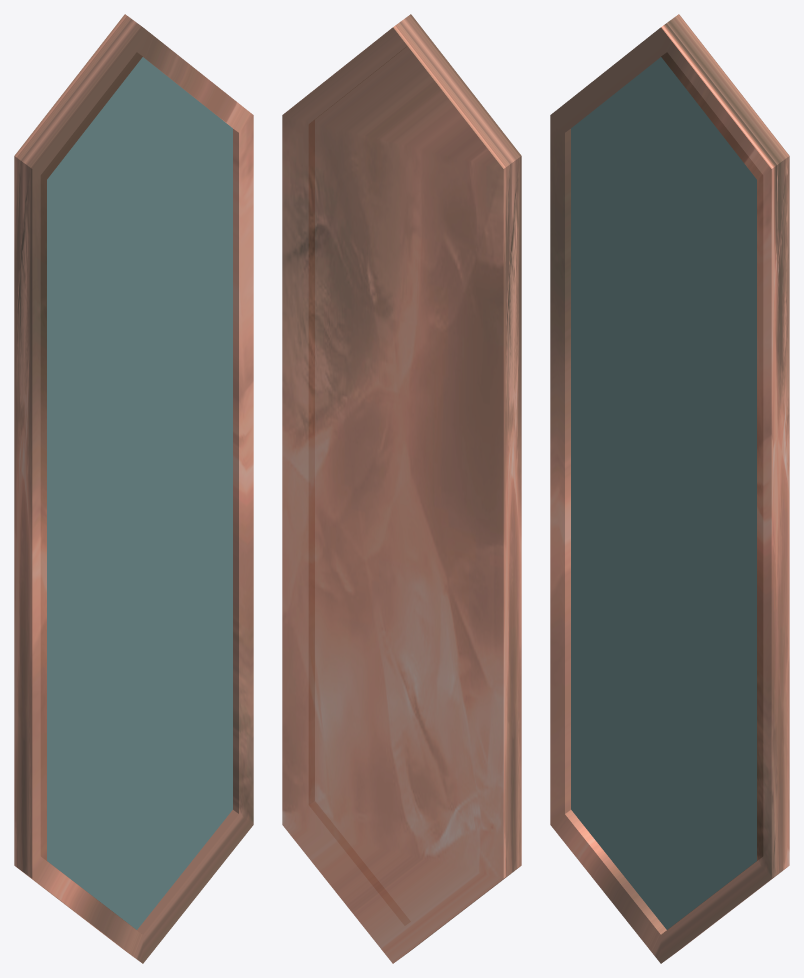
Rendered from salt-crystal-mirror.glb.
3 views of the same model, side by side, from view 1: azimuth 30°, elevation 25°; view 2: azimuth 150°, elevation 25°; view 3: azimuth 330°, elevation 25° (orthographic).
Parts seen in each view (by area): view 1: Cube; view 2: Cube; view 3: Cube.
Part boxes in pixels (x1,y1,x2,y2): Cube: [14, 14, 253, 963]; Cube: [282, 14, 521, 963]; Cube: [550, 14, 789, 963].
Bounding box in the file's own units: 0.8 × 3.24 × 0.1132.
Materials: 2 (1 with a texture image).
